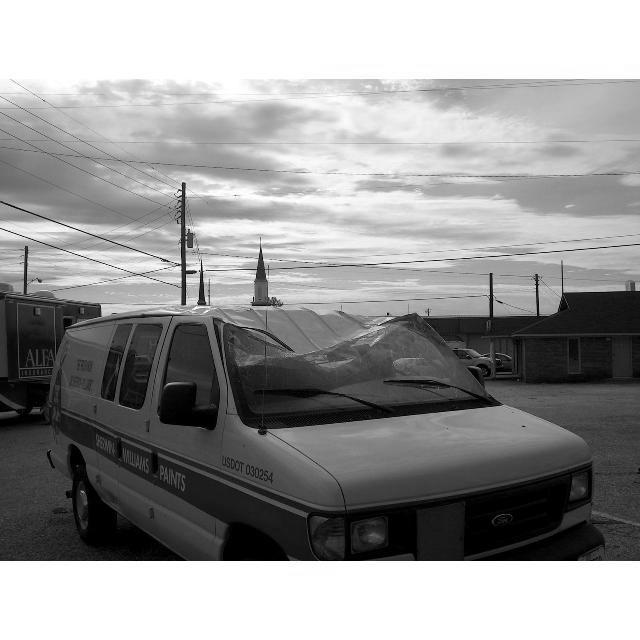Front-windscreen-damage: (221, 323, 468, 413)
roof-dent: (53, 281, 432, 354)
